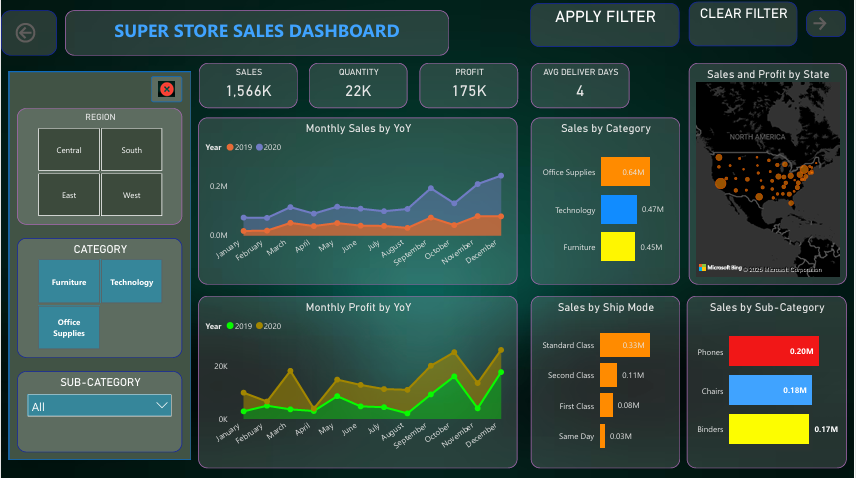

The page's visual inventory and layout, read from the dashboard file:
{"tool":"powerbi","page":{"name":"DETAIL SALES ANALYSE","canvas":[1280,720],"ordinal":2},"visuals":[{"type":"shape","title":"SHAPE FILTER","box":[11.7,110,273.3,583.3],"z":0,"group":"g1"},{"type":"clusteredBarChart","title":"Sales by Category","fields":{"Category":["SuperStore_Sales_Dataset.Category"],"Y":["Sum(SuperStore_Sales_Dataset.Sales)"]},"box":[794.7,178.7,223.7,251.4],"z":0},{"type":"slicer","title":"REGION","fields":{"Values":["SuperStore_Sales_Dataset.Region"]},"box":[23.4,165,248.3,175],"z":1000,"group":"g1"},{"type":"clusteredBarChart","title":"Sales by Sub-Category","fields":{"Category":["SuperStore_Sales_Dataset.Sub-Category"],"Y":["Sum(SuperStore_Sales_Dataset.Sales)"]},"box":[1028.6,447.5,239.7,258.6],"z":1000},{"type":"clusteredBarChart","title":"Sales by Ship Mode","fields":{"Category":["SuperStore_Sales_Dataset.Ship Mode"],"Y":["Sum(SuperStore_Sales_Dataset.Sales)"]},"box":[794.7,447.5,223.7,258.6],"z":2000},{"type":"slicer","title":"SUB-CATEGORY","fields":{"Values":["SuperStore_Sales_Dataset.Sub-Category"]},"box":[23.4,560,248.3,121.7],"z":2000,"group":"g1"},{"type":"slicer","title":"CATEGORY","fields":{"Values":["SuperStore_Sales_Dataset.Category"]},"box":[23.4,360,248.3,180],"z":3000,"group":"g1"},{"type":"stackedAreaChart","title":"Monthly Profit by YoY","fields":{"Category":["SuperStore_Sales_Dataset.Order Date.Variation.Date Hierarchy.Month","SuperStore_Sales_Dataset.Order Date.Variation.Date Hierarchy.Day"],"Series":["SuperStore_Sales_Dataset.Order Date.Variation.Date Hierarchy.Year"],"Y":["Sum(SuperStore_Sales_Dataset.Profit)"]},"box":[296.4,447.5,479.5,258.6],"z":3000},{"type":"image","title":"FILTER CLOSE BUTTON","box":[225,117.1,47.1,38.6],"z":4000,"group":"g1"},{"type":"stackedAreaChart","title":"Monthly Sales by YoY","fields":{"Y":["Sum(SuperStore_Sales_Dataset.Sales)"],"Category":["SuperStore_Sales_Dataset.Order Date.Variation.Date Hierarchy.Month","SuperStore_Sales_Dataset.Order Date.Variation.Date Hierarchy.Day"],"Series":["SuperStore_Sales_Dataset.Order Date.Variation.Date Hierarchy.Year"]},"box":[296.4,178.7,479.5,251.4],"z":4000},{"type":"map","title":"Sales and Profit by State","fields":{"Category":["SuperStore_Sales_Dataset.State"],"Size":["Sum(SuperStore_Sales_Dataset.Sales)"]},"box":[1031.7,96.7,236.7,333.3],"z":5000},{"type":"textbox","box":[96.5,18.1,575.9,67.8],"z":6000},{"type":"card","title":"SALES","fields":{"Values":["Sum(SuperStore_Sales_Dataset.Sales)"]},"box":[296.7,96.7,148.3,68.3],"z":7000},{"type":"card","title":"QUANTITY","fields":{"Values":["Sum(SuperStore_Sales_Dataset.Quantity)"]},"box":[461.7,96.7,148.3,68.3],"z":8000},{"type":"card","title":"PROFIT","fields":{"Values":["Sum(SuperStore_Sales_Dataset.Profit)"]},"box":[628.3,96.7,148.3,68.3],"z":9000},{"type":"card","title":"AVG DELIVER DAYS","fields":{"Values":["Avg(SuperStore_Sales_Dataset.AVG DELIVERY DATE)"]},"box":[795,96.7,148.3,68.3],"z":10000},{"type":"actionButton","box":[0,18.1,84.4,67.8],"z":11000},{"type":"actionButton","box":[1208.3,18.3,60,40],"z":12000},{"type":"actionButton","title":"CLEAR FILTER","box":[1031.7,5,163.3,66.7],"z":13000},{"type":"group","id":"g1","title":"FILTER PANEL","box":[11.7,110,273.3,583.3],"z":15000},{"type":"actionButton","title":"APPLY FILTER","box":[794.3,7.1,224.3,65.7],"z":16000}]}

Visuals, with their boxes in screenshot pixels (x1, y1, x2, y2), scaled from the page's 1280x720 canvas onto the 856x478 screenshot:
"SHAPE FILTER" shape: [8, 73, 191, 460]
"Sales by Category" clusteredBarChart: [531, 119, 681, 286]
"REGION" slicer: [16, 110, 182, 226]
"Sales by Sub-Category" clusteredBarChart: [688, 297, 848, 469]
"Sales by Ship Mode" clusteredBarChart: [531, 297, 681, 469]
"SUB-CATEGORY" slicer: [16, 372, 182, 453]
"CATEGORY" slicer: [16, 239, 182, 358]
"Monthly Profit by YoY" stackedAreaChart: [198, 297, 519, 469]
"FILTER CLOSE BUTTON" image: [150, 78, 182, 103]
"Monthly Sales by YoY" stackedAreaChart: [198, 119, 519, 286]
"Sales and Profit by State" map: [690, 64, 848, 285]
textbox: [65, 12, 450, 57]
"SALES" card: [198, 64, 298, 110]
"QUANTITY" card: [309, 64, 408, 110]
"PROFIT" card: [420, 64, 519, 110]
"AVG DELIVER DAYS" card: [532, 64, 631, 110]
actionButton: [0, 12, 56, 57]
actionButton: [808, 12, 848, 39]
"CLEAR FILTER" actionButton: [690, 3, 799, 48]
"FILTER PANEL" group: [8, 73, 191, 460]
"APPLY FILTER" actionButton: [531, 5, 681, 48]
